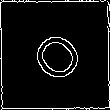O_SE: (21, 22, 89, 88)
